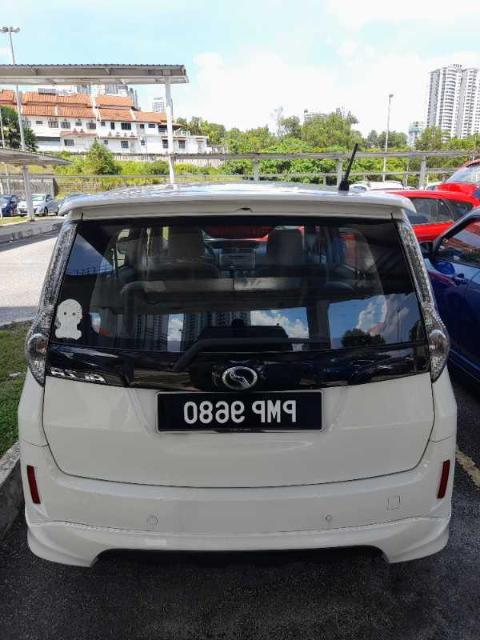License_Plate: (156, 390, 324, 433)
car: (19, 181, 460, 570)
